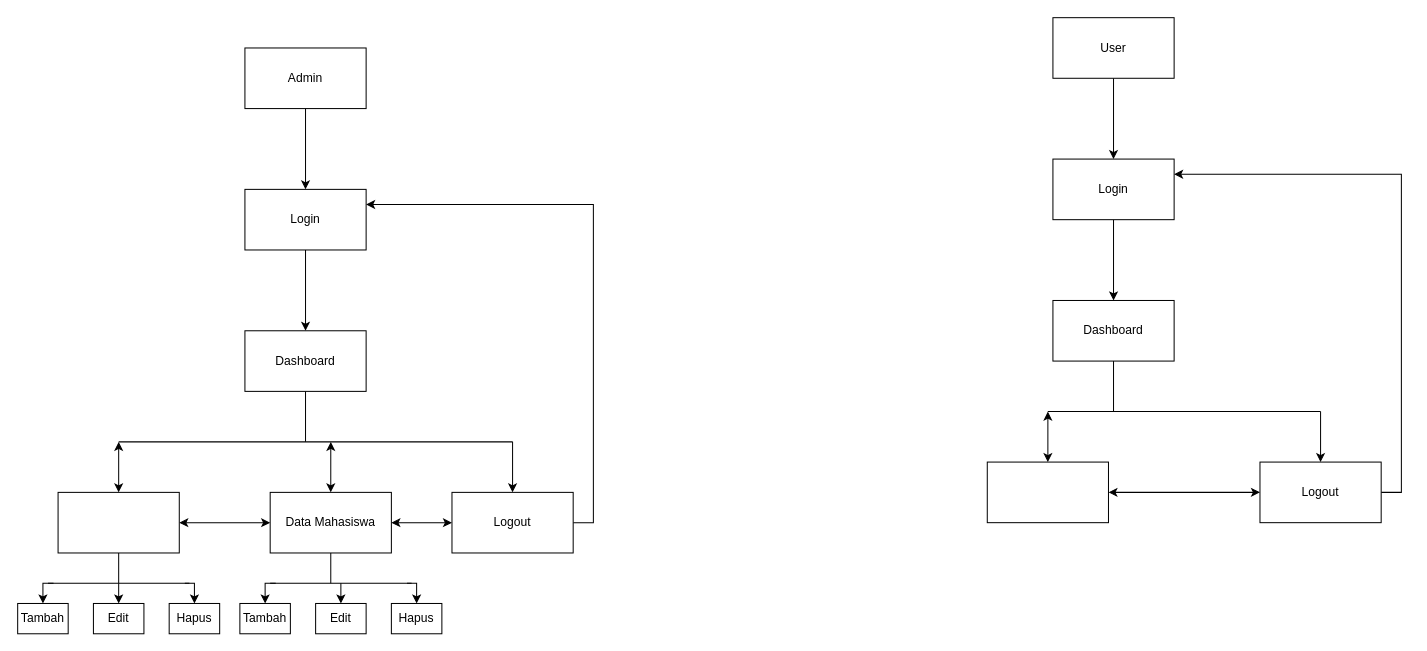
The diagram is 1427 pixels wide and 651 high, and some of its shapes have lost their labels. Here are the shapes that lost their labels. From the top down, the centre of each, then its label:
point (1047, 492): KRS
point (118, 522): Data Mata Kuliah
